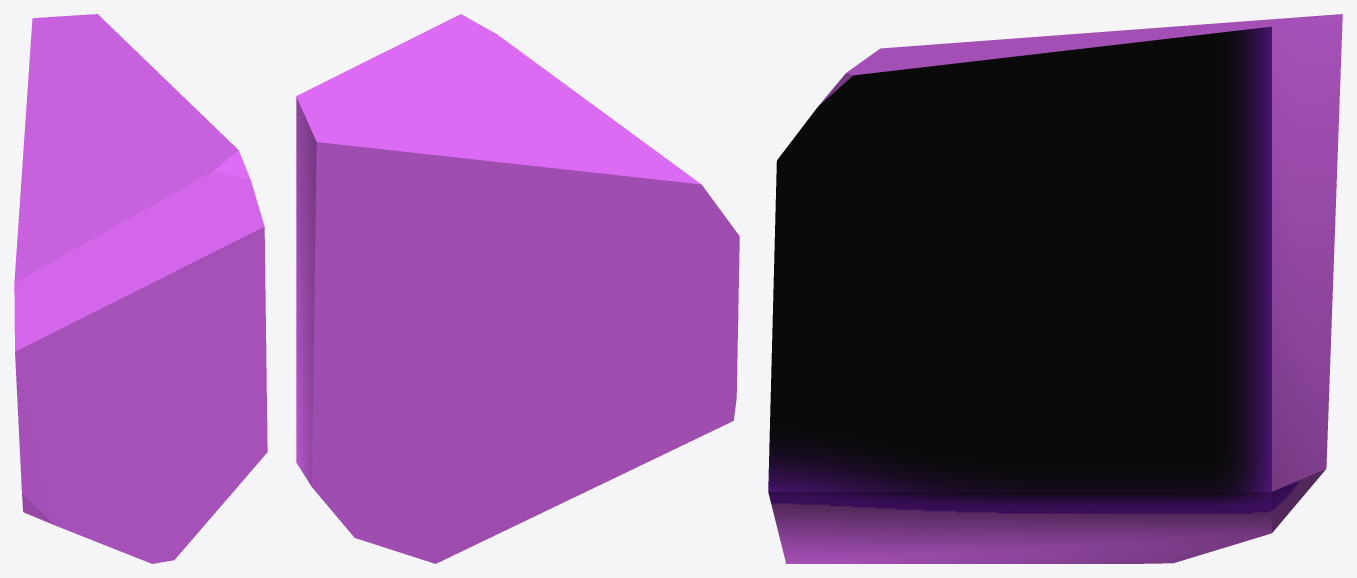
Rendered from blockParticle_17.gltf.
3 views of the same model, side by side, from view 1: azimuth 30°, elevation 25°; view 2: azimuth 150°, elevation 25°; view 3: azimuth 270°, elevation 25° (orthographic). The views are drawn at different scales.
Visible parts, largest first — view 1: 立方体_cell.019; view 2: 立方体_cell.019; view 3: 立方体_cell.019.
Boxes of the visible parts, x1,y1,x2,y2 form: 立方体_cell.019: (14, 14, 267, 563); 立方体_cell.019: (296, 14, 739, 563); 立方体_cell.019: (768, 14, 1342, 563).
Size of the model in its own units: 0.563 by 0.9416 by 0.8166.
2 materials, 2 textured.
